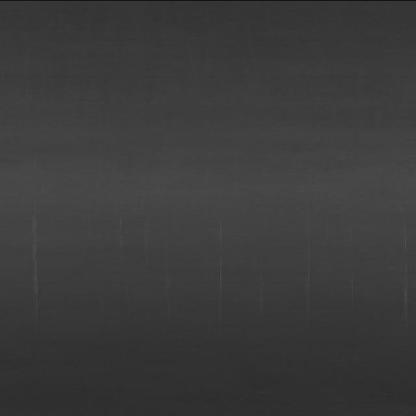waist_folding: (31, 212, 371, 342)
